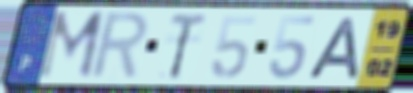5: (267, 14, 318, 81), (209, 13, 260, 80)
A: (303, 16, 362, 81)
M: (34, 8, 108, 82)
R: (86, 10, 152, 83)
T: (167, 11, 210, 82)
